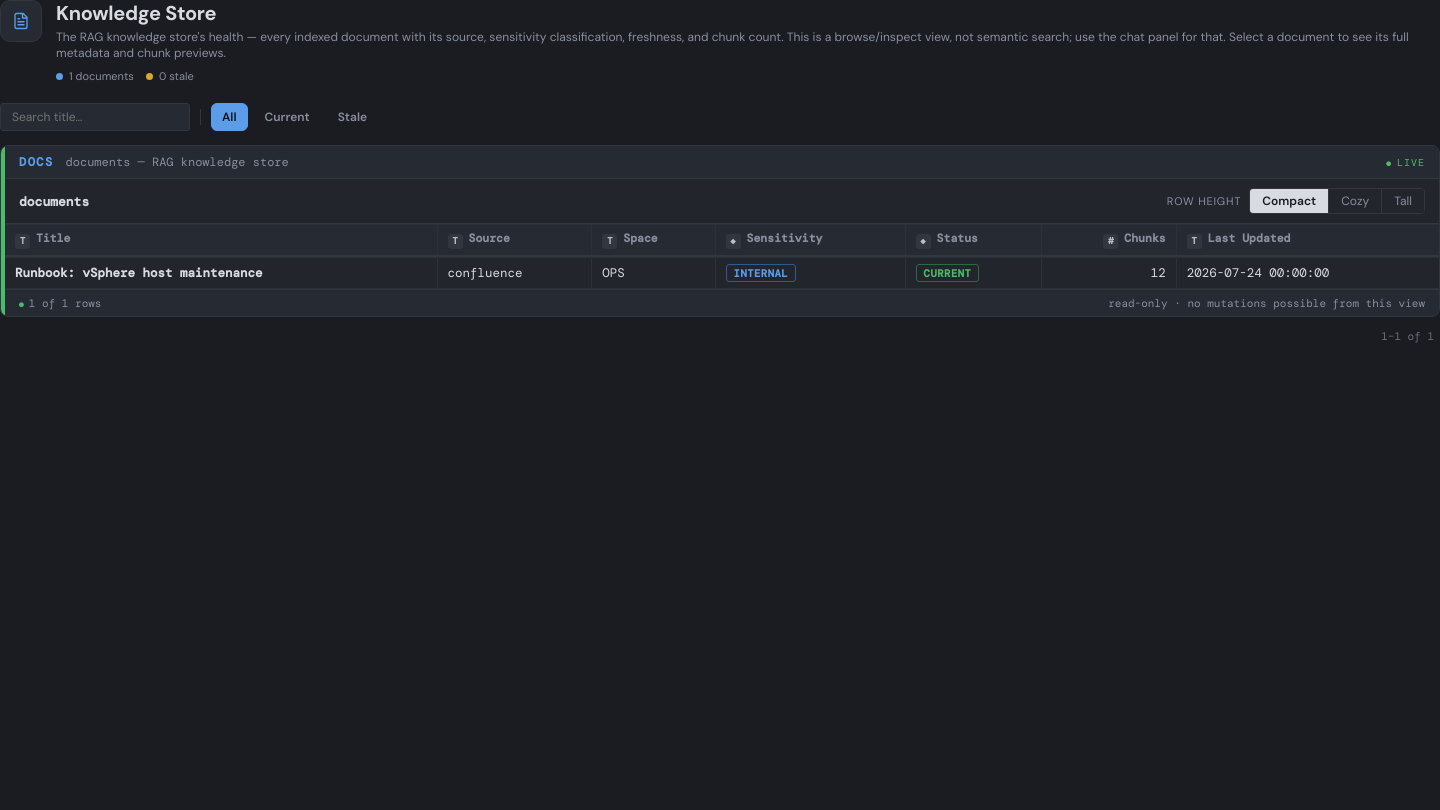
it: Documents page — Phase 3 design-system rebuild › clicking a row opens the detail drawer and fetches document detail
Click the text "Runbook: vSphere host maintenance" at (139,273), box [15,265,262,281]
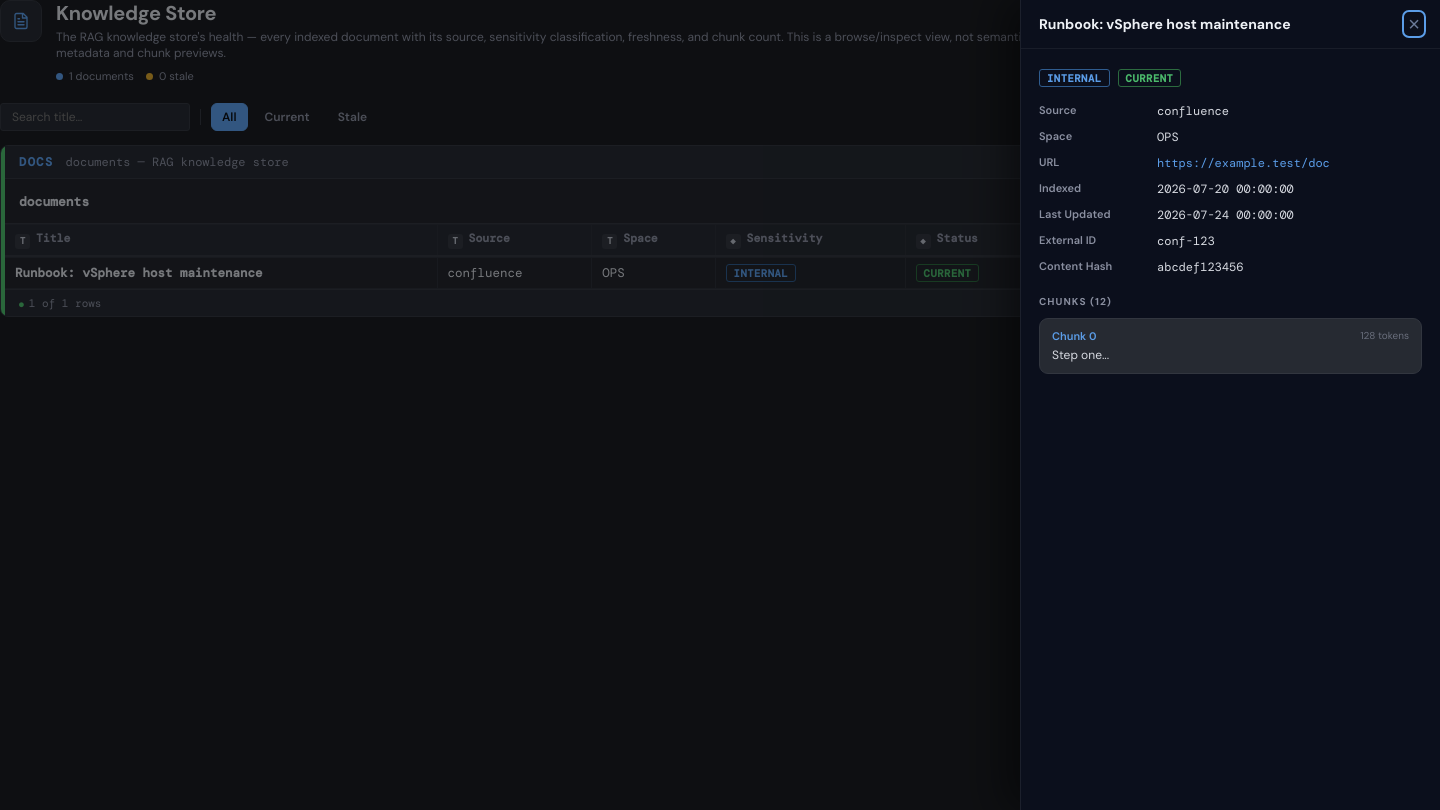
Check: the text "Chunks (12)" is shown, box [1039,295,1112,308]
Check: the text "Step one..." is shown, box [1052,347,1109,363]
